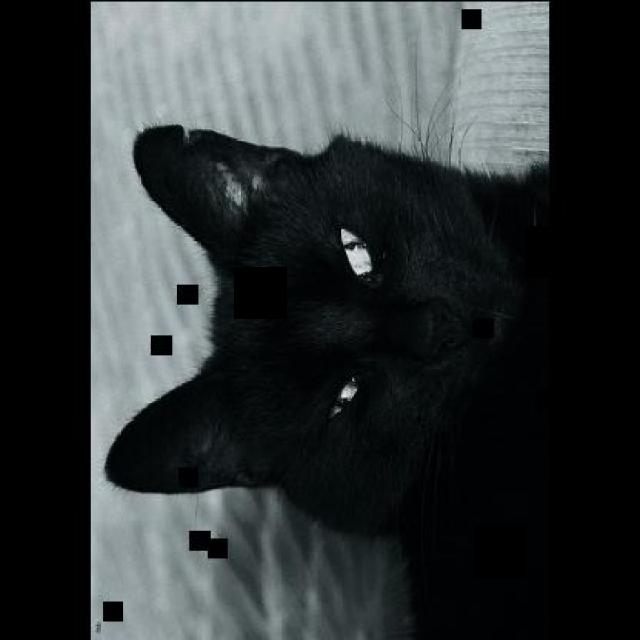unauthorized: (103, 117, 554, 638)
